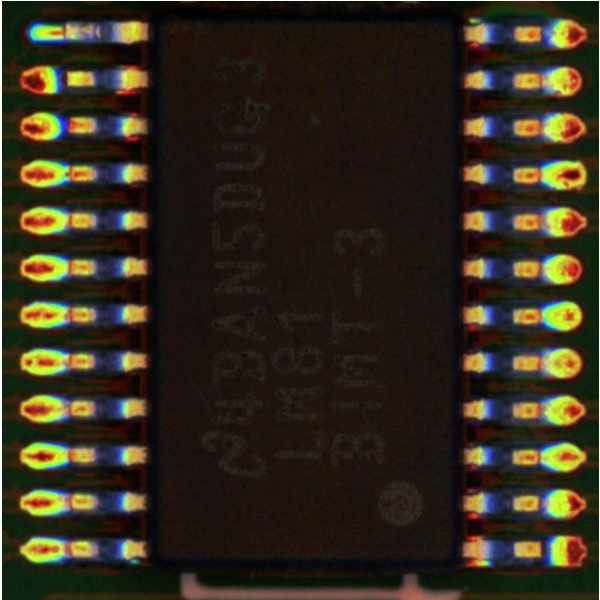Bad_podu: (46, 24, 75, 39)
